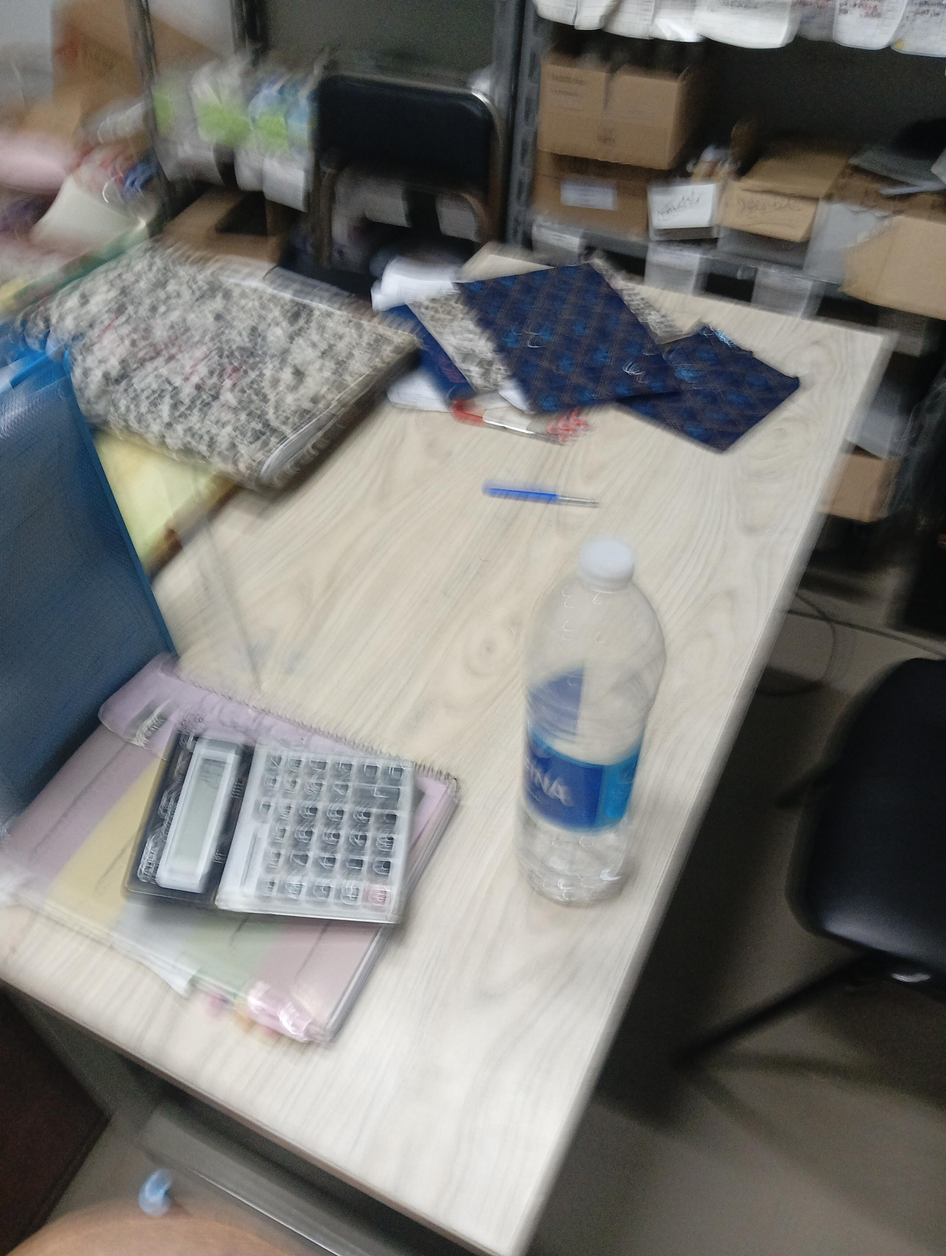Bottle: (516, 537, 665, 903)
